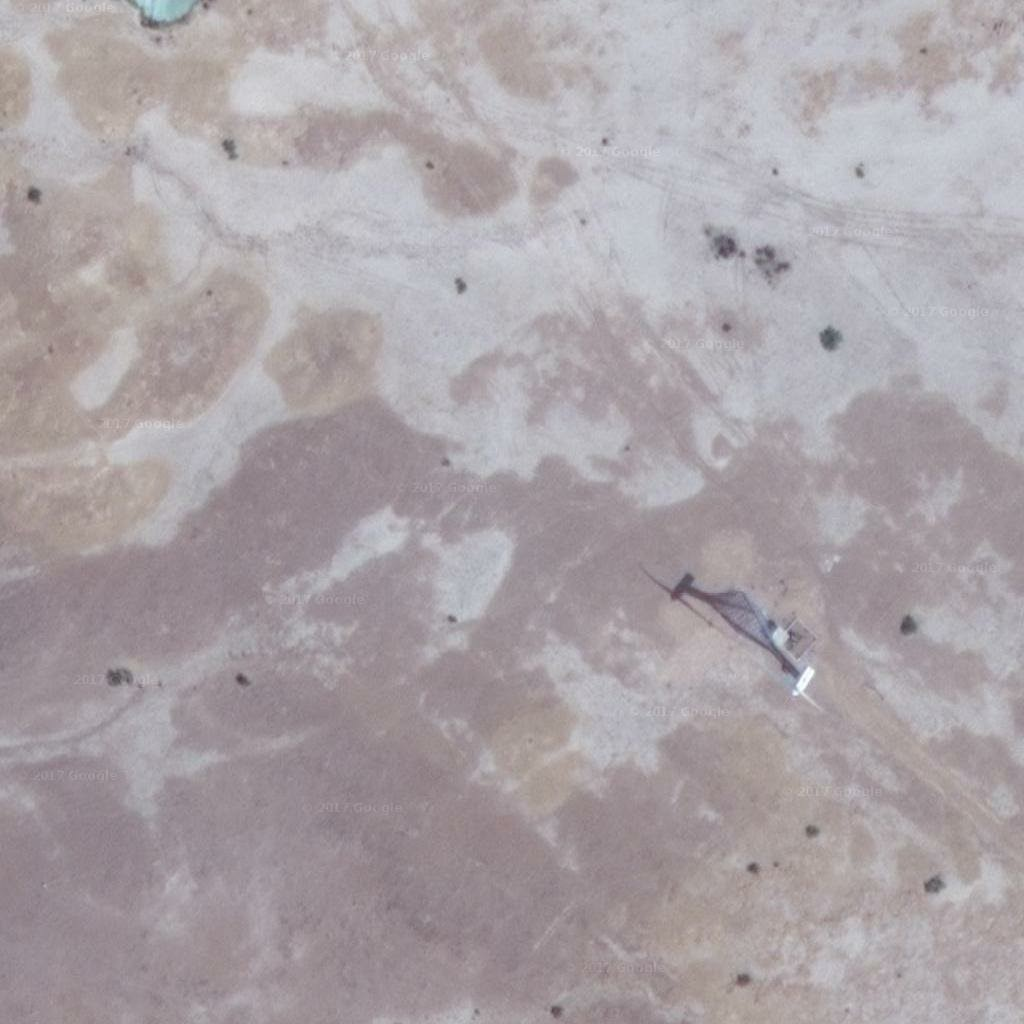Windmill: (632, 554, 804, 688)
